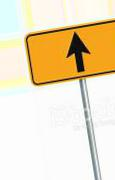forward: (27, 26, 115, 86)
